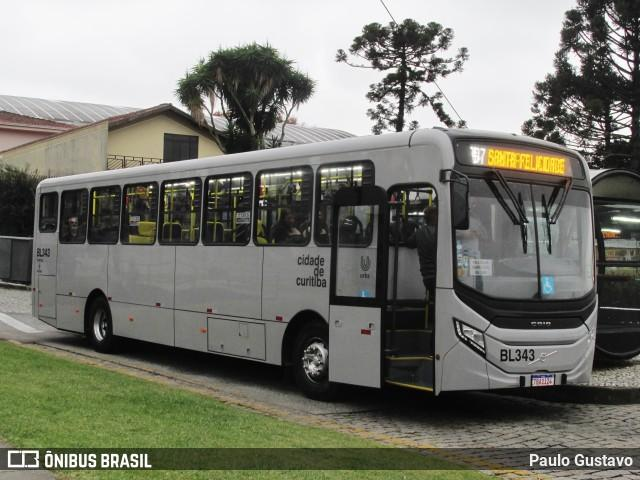SANTA FELICIDADE: (484, 144, 568, 179)
